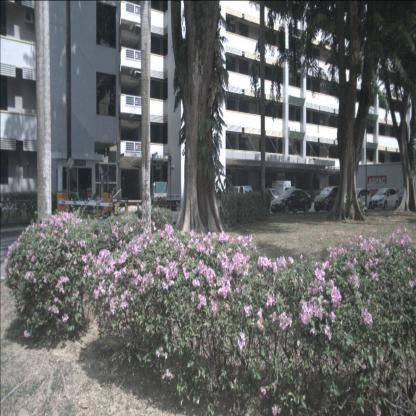vehicle-car: (270, 188, 312, 214), (313, 186, 349, 212), (370, 188, 399, 209), (230, 185, 255, 207), (348, 188, 372, 210), (260, 186, 281, 206), (397, 187, 415, 207)
vehicle-truck: (353, 162, 416, 210), (150, 180, 181, 212), (272, 180, 296, 205)
